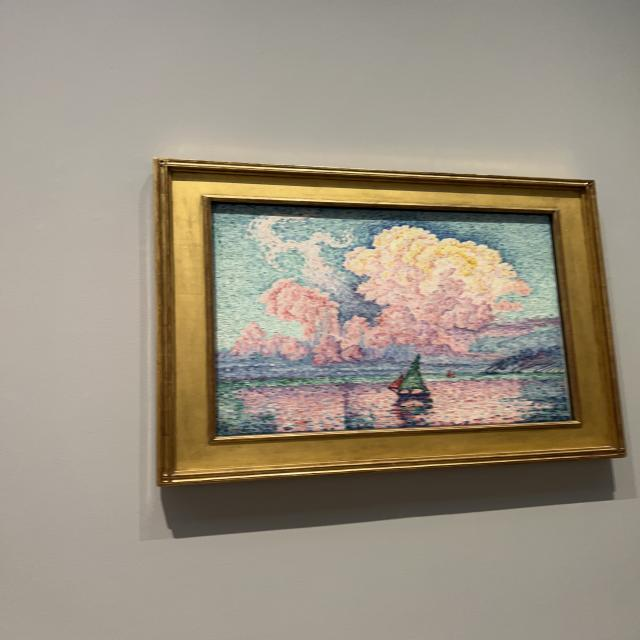sunrise: (211, 208, 572, 435)
